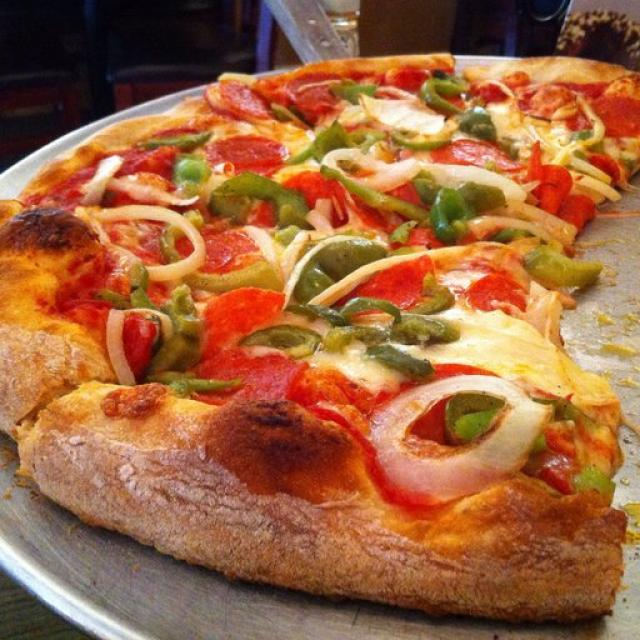Green Pepper: (164, 284, 207, 397), (215, 178, 305, 225), (331, 330, 438, 369), (416, 174, 477, 227), (530, 252, 604, 288), (423, 78, 474, 112), (458, 415, 502, 446), (462, 110, 499, 146), (312, 123, 358, 149)
Onions: (381, 381, 540, 503), (71, 208, 201, 276), (82, 159, 201, 208), (476, 207, 574, 250), (324, 154, 416, 190), (365, 100, 443, 136), (104, 310, 137, 388), (562, 154, 616, 201), (283, 237, 319, 300), (316, 263, 362, 307)
Pepperoni: (205, 287, 284, 336), (218, 359, 305, 400), (209, 132, 286, 170), (443, 132, 509, 169), (369, 268, 432, 305), (214, 81, 275, 118), (200, 232, 266, 265)
Pizza: (0, 54, 640, 626)
